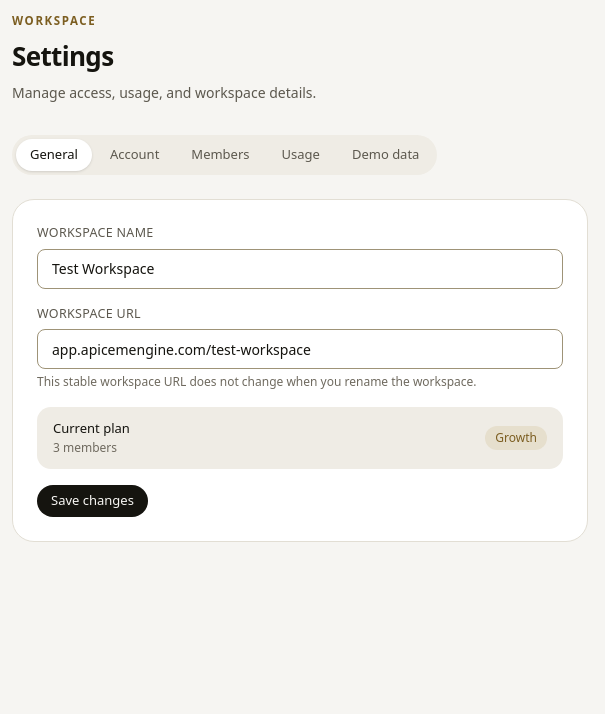
it: SettingsPage — Account tab › persists a profile name through the update mutation
The image size is (605, 714).
Click the tab "Account". click: {"x": 135, "y": 155}
box: [96, 139, 173, 171]
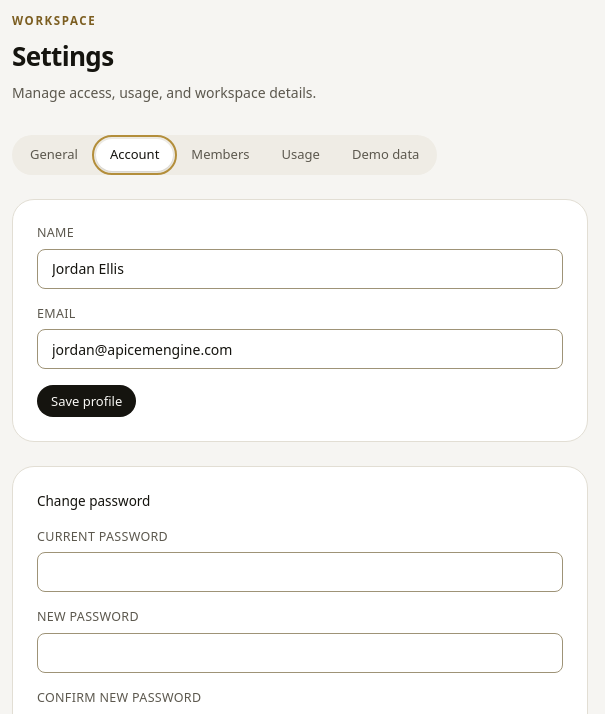
Replace the text in the field labelled "Name" with "Jordan Updated". click: {"x": 300, "y": 268}
box: [37, 248, 563, 288]
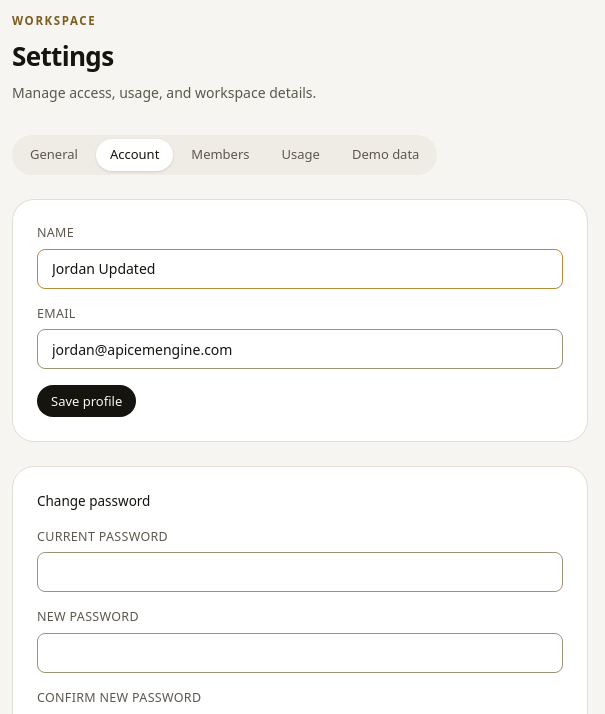
Click the button "Save profile". click: {"x": 87, "y": 401}
box: [37, 385, 136, 417]
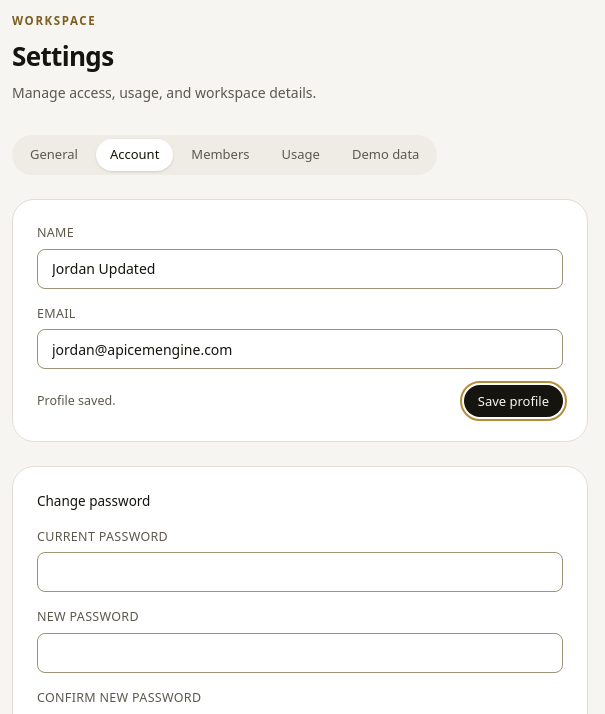
Result: the text "Profile saved." is shown at [37, 392, 116, 411]
